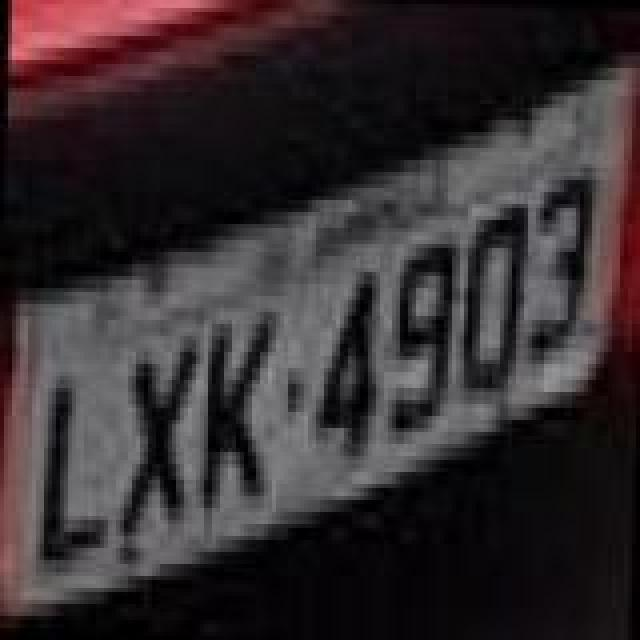3: (528, 166, 600, 370)
4: (316, 266, 388, 462)
9: (388, 234, 460, 446)
K: (200, 304, 272, 512)
L: (34, 380, 110, 580)
O: (458, 198, 534, 410)
X: (120, 336, 200, 544)
